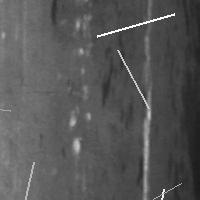scratches: (171, 34, 200, 200), (67, 12, 94, 156), (140, 6, 155, 198), (112, 45, 153, 113), (92, 9, 179, 41), (98, 34, 129, 107), (108, 178, 186, 200), (7, 157, 38, 200), (144, 184, 168, 200), (0, 95, 15, 116)
